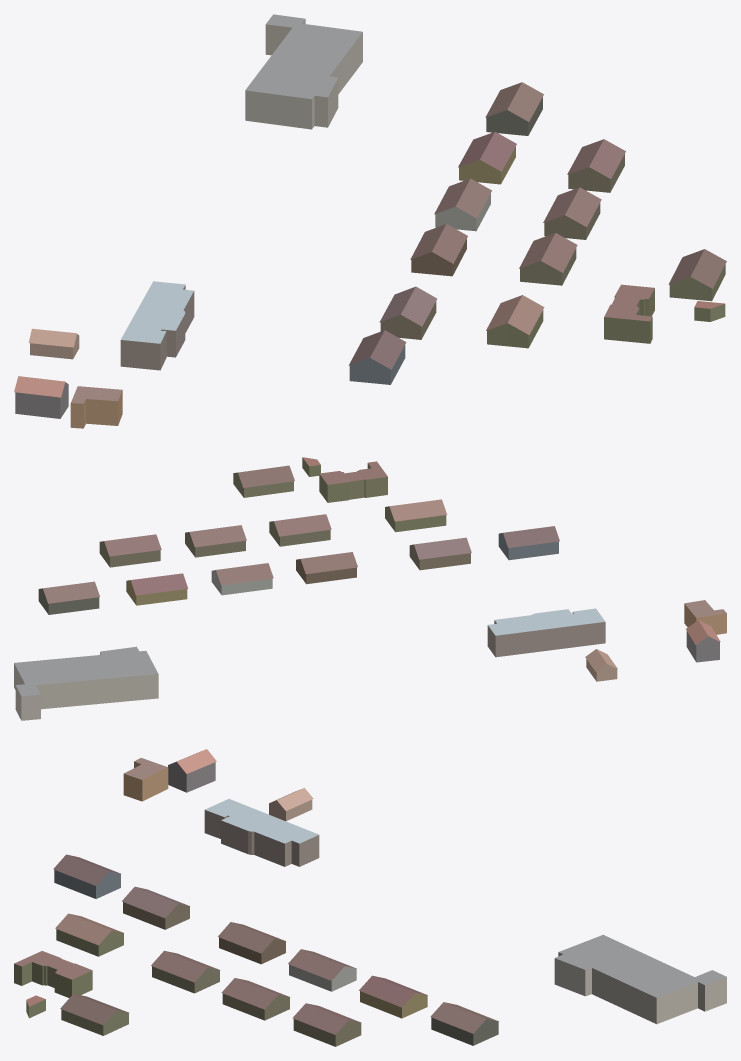
3 views of the same model, one above another, from view 1: azimuth 30°, elevation 25°; view 2: azimuth 150°, elevation 25°; view 3: azimuth 270°, elevation 25° (orthographic). The views are drawn at different scales.
Visible parts, largest first — view 1: tuile; view 2: tuile; view 3: tuile.
Boxes of the visible parts, x1,y1,x2,y2 form: tuile: [14, 14, 726, 428]; tuile: [14, 457, 726, 720]; tuile: [14, 749, 726, 1046].
Size of the model in its own units: 262 by 16.65 by 268.
